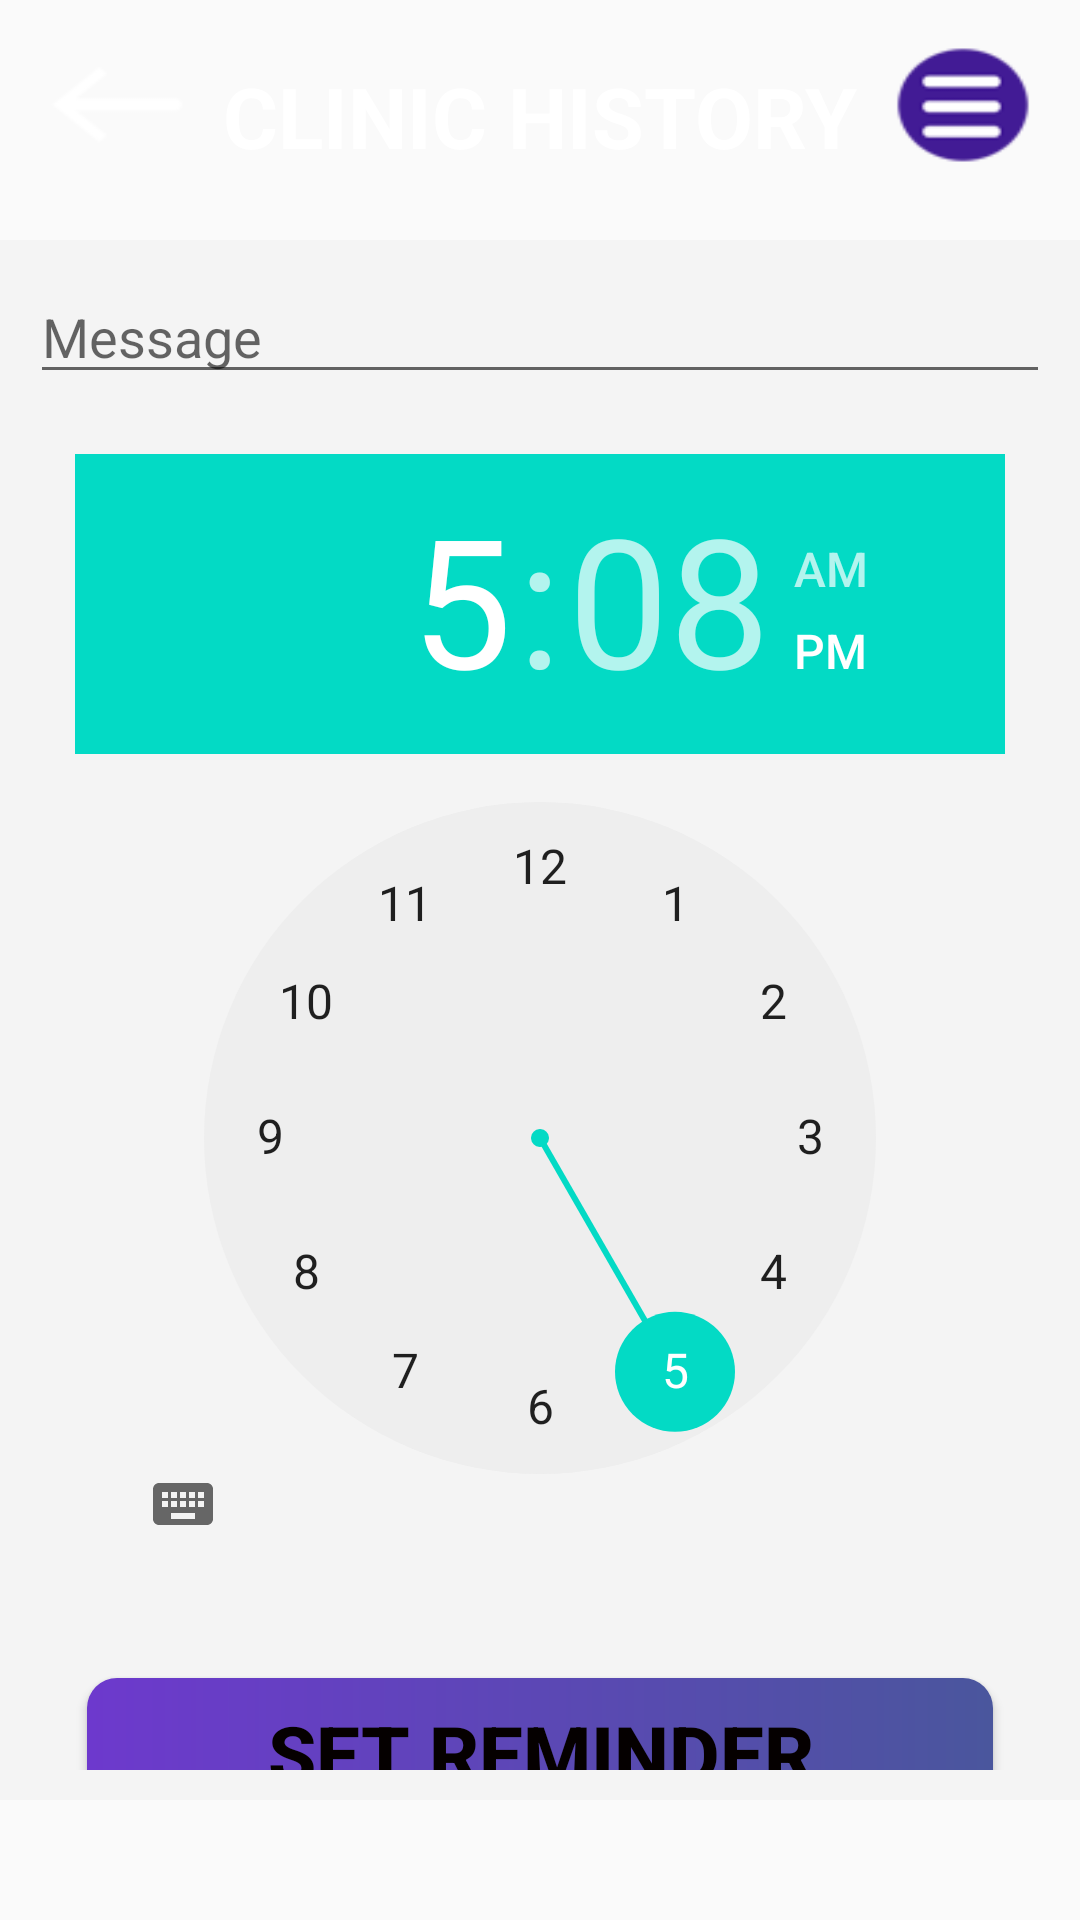

Icons on this 1080 × 1920 Android screen, each with its box as [x1, y1, x2, y2]:
menu: [897, 48, 1029, 162]
